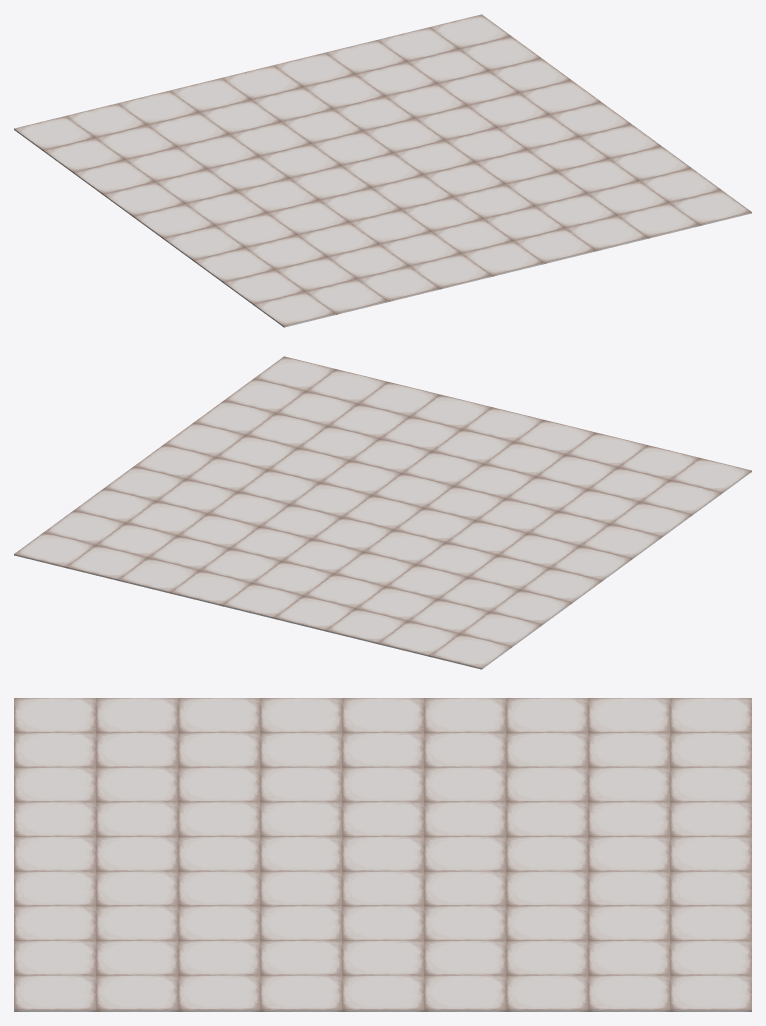
Rendered from tile81.obj.
The picture shows the model from 3 angles, top to bottom: view 1: azimuth 30°, elevation 25°; view 2: azimuth 150°, elevation 25°; view 3: azimuth 270°, elevation 25°; orthographic projection. The views are drawn at different scales.
Visible parts, largest first — view 1: group pasted__pCube60, group pasted__pCube59, group pasted__pCube61, group pasted__pCube62, group pasted__pCube63, group pasted__pCube64, group pasted__pCube65, group pasted__pCube66, group pasted__pCube67, group pasted__pCube49, group pasted__pCube50, group pasted__pCube48 (+69 smaller); view 2: group pasted__pCube69, group pasted__pCube68, group pasted__pCube70, group pasted__pCube71, group pasted__pCube72, group pasted__pCube73, group pasted__pCube74, group pasted__pCube75, group pasted__pCube76, group pasted__pCube45, group pasted__pCube46, group pasted__pCube47 (+69 smaller); view 3: pCube10, group pasted__pCube51, group pasted__pCube52, group pasted__pCube53, group pasted__pCube54, group pasted__pCube55, group pasted__pCube56, group pasted__pCube59, group pasted__pCube68, pCube2, pCube7, pCube8 (+69 smaller).
Part boxes in pixels (bbox=[...]): group pasted__pCube60: bbox=[254, 291, 335, 327]; group pasted__pCube59: bbox=[670, 190, 751, 225]; group pasted__pCube61: bbox=[410, 253, 491, 289]; group pasted__pCube62: bbox=[306, 279, 387, 314]; group pasted__pCube63: bbox=[358, 266, 439, 301]; group pasted__pCube64: bbox=[462, 241, 543, 276]; group pasted__pCube65: bbox=[514, 228, 595, 263]; group pasted__pCube66: bbox=[566, 215, 647, 251]; group pasted__pCube67: bbox=[618, 203, 699, 238]; group pasted__pCube49: bbox=[194, 247, 275, 283]; group pasted__pCube50: bbox=[224, 269, 305, 305]; group pasted__pCube48: bbox=[164, 226, 245, 261]; group pasted__pCube69: bbox=[430, 633, 511, 669]; group pasted__pCube68: bbox=[14, 532, 95, 567]; group pasted__pCube70: bbox=[274, 595, 355, 631]; group pasted__pCube71: bbox=[378, 621, 459, 656]; group pasted__pCube72: bbox=[326, 608, 407, 643]; group pasted__pCube73: bbox=[222, 583, 303, 618]; group pasted__pCube74: bbox=[170, 570, 251, 605]; group pasted__pCube75: bbox=[118, 557, 199, 593]; group pasted__pCube76: bbox=[66, 545, 147, 580]; group pasted__pCube45: bbox=[460, 611, 541, 647]; group pasted__pCube46: bbox=[490, 589, 571, 625]; group pasted__pCube47: bbox=[520, 568, 601, 603]; pCube10: bbox=[342, 975, 423, 1011]; group pasted__pCube51: bbox=[588, 975, 669, 1011]; group pasted__pCube52: bbox=[506, 975, 587, 1011]; group pasted__pCube53: bbox=[424, 975, 505, 1011]; group pasted__pCube54: bbox=[260, 975, 341, 1011]; group pasted__pCube55: bbox=[178, 975, 259, 1011]; group pasted__pCube56: bbox=[96, 975, 177, 1011]; group pasted__pCube59: bbox=[14, 975, 95, 1011]; group pasted__pCube68: bbox=[670, 975, 751, 1011]; pCube2: bbox=[342, 836, 423, 871]; pCube7: bbox=[342, 940, 423, 975]; pCube8: bbox=[342, 732, 423, 767].
Bounding box in the file's own units: 9 × 0.025 × 9.
2 materials, 2 textured.
